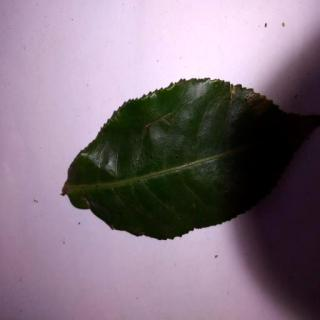Bird Eye Spot: (63, 80, 320, 241)
